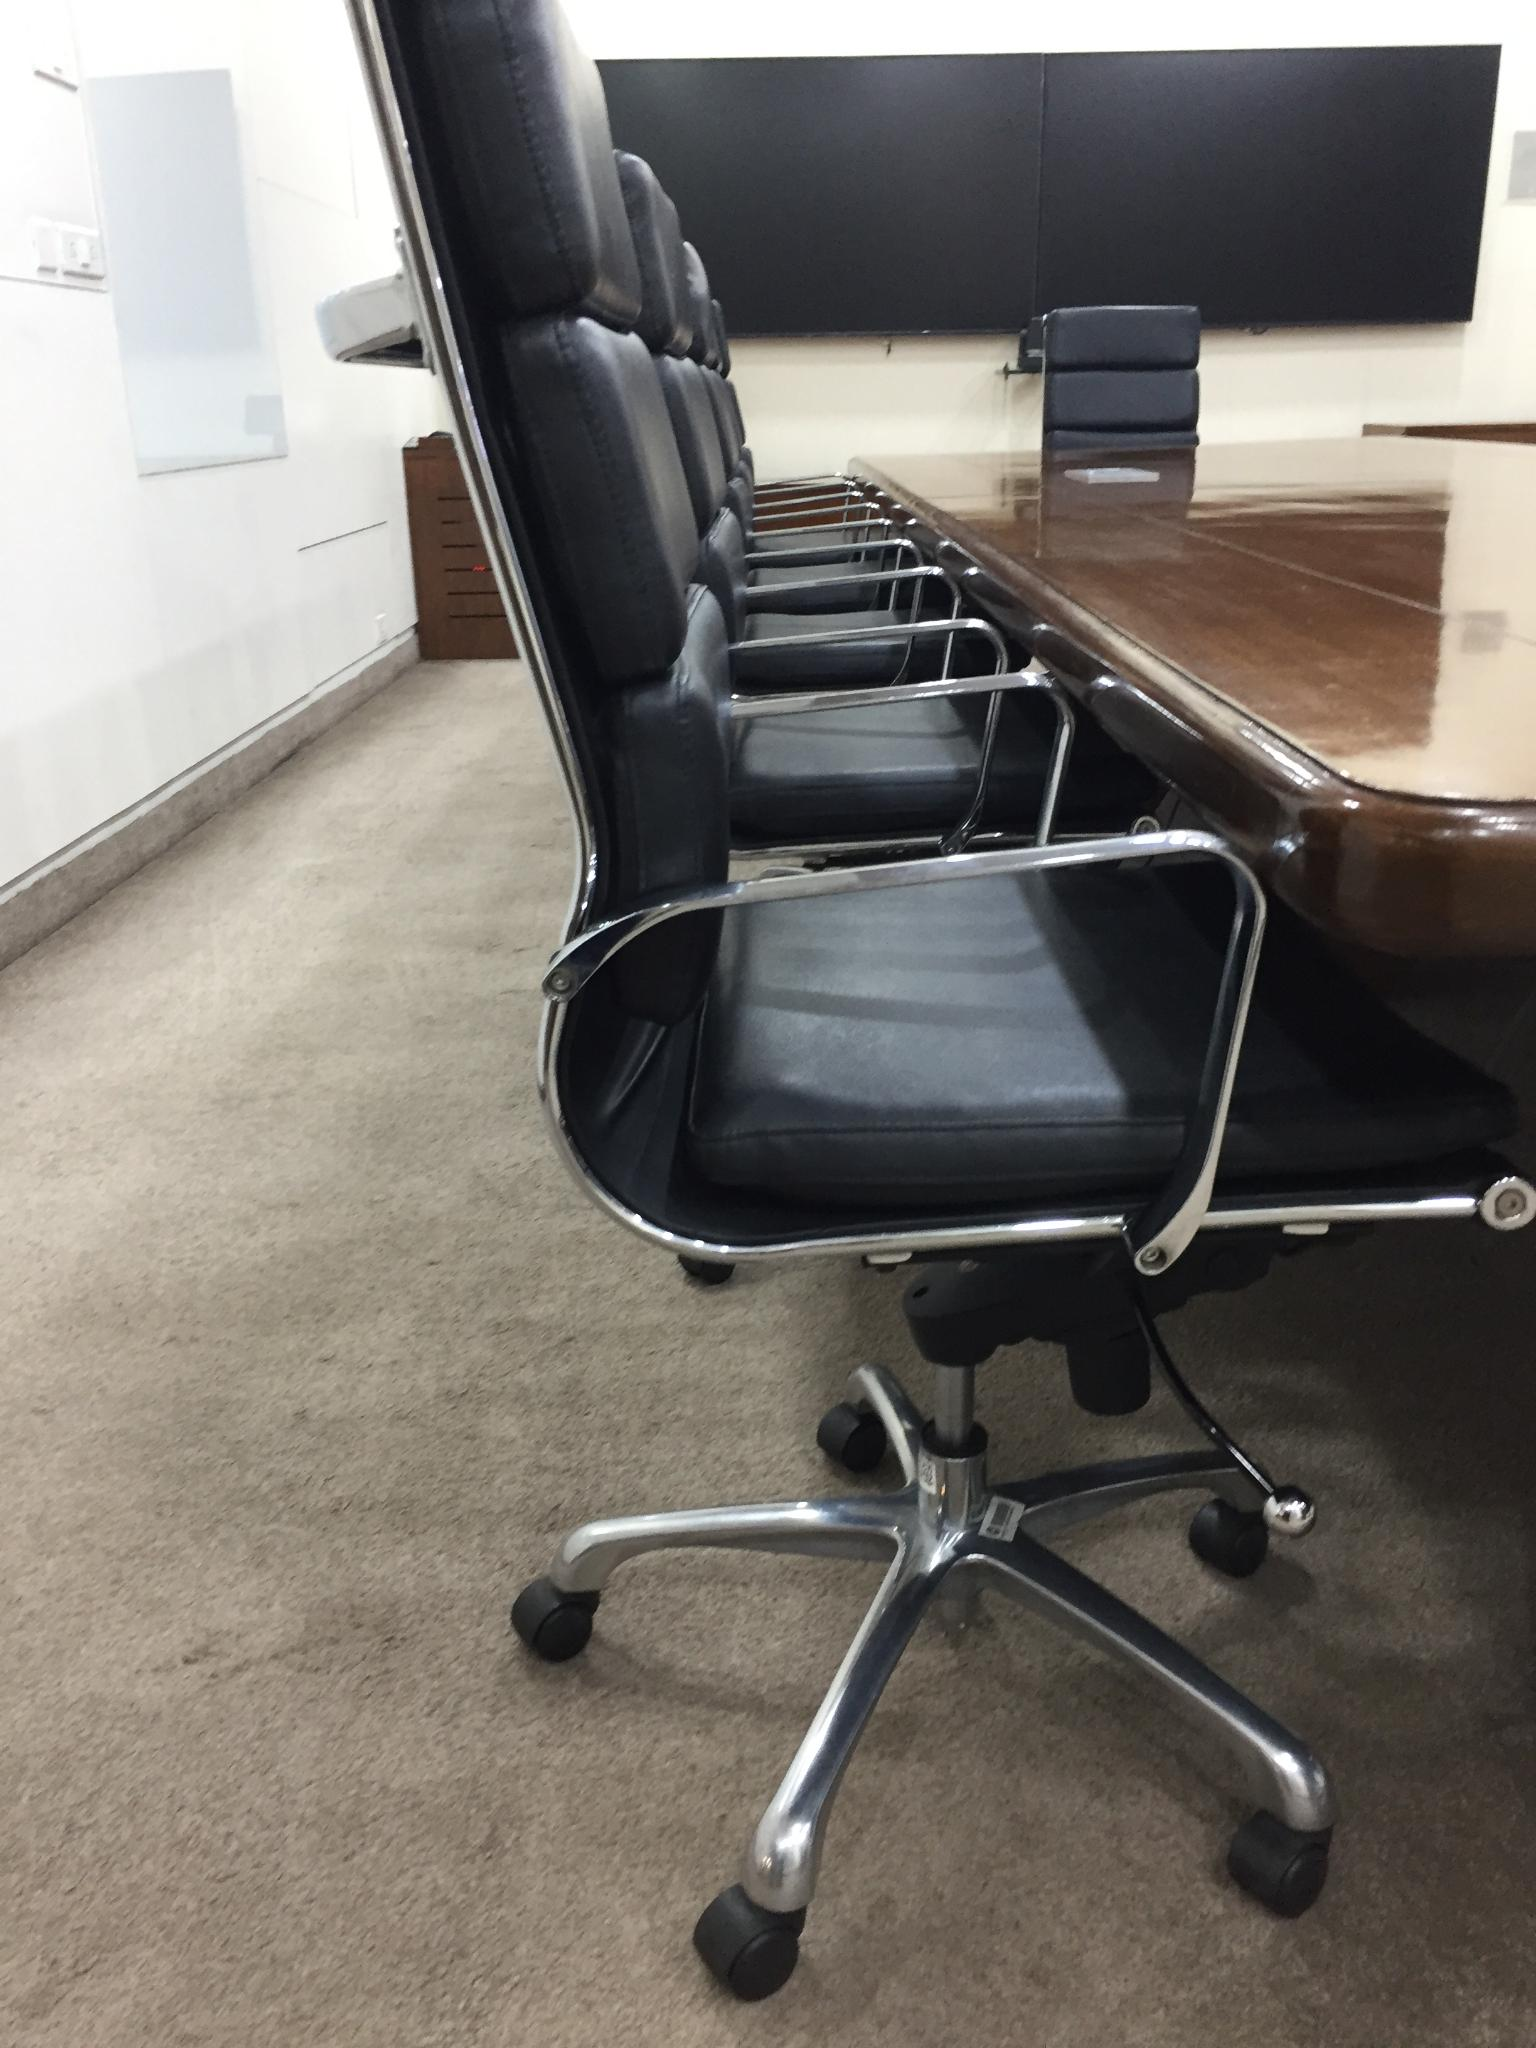chair: (324, 0, 1531, 1990), (616, 160, 1246, 987), (679, 240, 984, 685), (1039, 302, 1202, 453)
